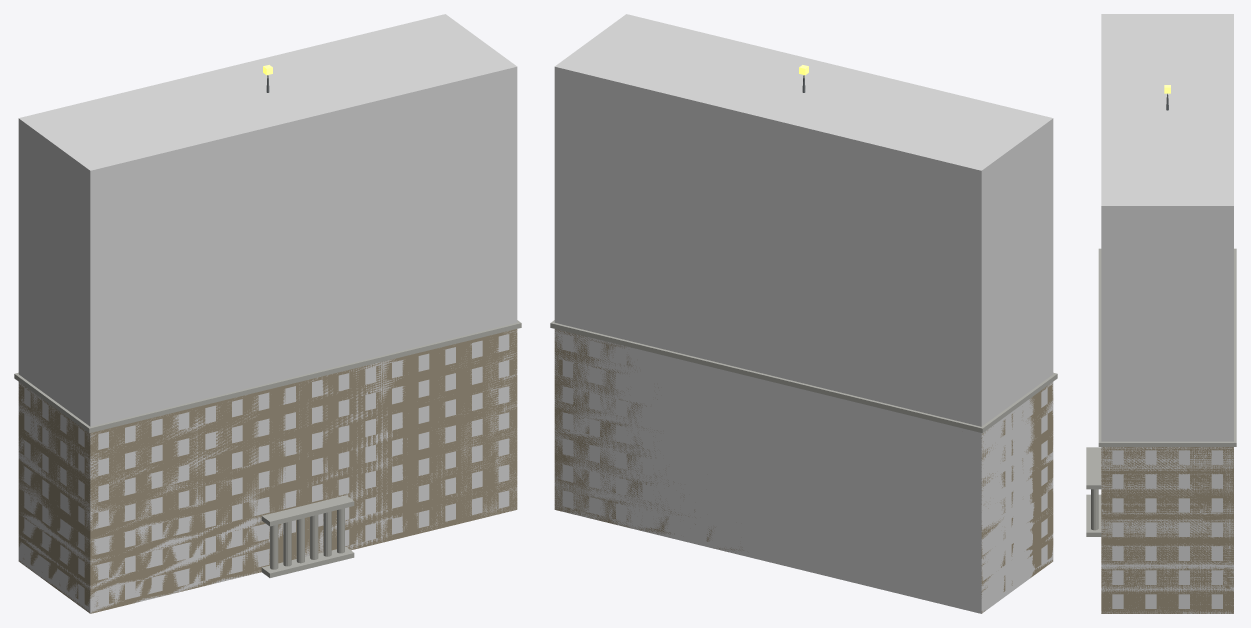
File: stalin_house.glb
3 views of the same model, side by side, from view 1: azimuth 30°, elevation 25°; view 2: azimuth 150°, elevation 25°; view 3: azimuth 270°, elevation 25° (orthographic). The views are drawn at different scales.
Visible parts, largest first — view 1: stalin_house-col, facade_front, facade_left, cornice, architrave, stylobate; view 2: stalin_house-col, facade_back, facade_left, cornice; view 3: stalin_house-col, facade_right, cornice, architrave, stylobate, column.005.
Part boxes in pixels (left/top/right/bottom): stalin_house-col: left=18, top=14, right=517, bottom=613; facade_front: left=90, top=329, right=517, bottom=613; facade_left: left=18, top=382, right=90, bottom=613; cornice: left=14, top=320, right=521, bottom=433; architrave: left=261, top=495, right=354, bottom=526; stylobate: left=261, top=547, right=354, bottom=577; stalin_house-col: left=554, top=14, right=1053, bottom=613; facade_back: left=554, top=329, right=743, bottom=551; facade_left: left=981, top=383, right=1053, bottom=613; cornice: left=550, top=320, right=1057, bottom=433; stalin_house-col: left=1101, top=14, right=1233, bottom=613; facade_right: left=1101, top=447, right=1233, bottom=613; cornice: left=1098, top=248, right=1236, bottom=446; architrave: left=1086, top=447, right=1101, bottom=489; stylobate: left=1086, top=494, right=1101, bottom=536; column.005: left=1091, top=489, right=1098, bottom=530.
Size of the model in its own units: 48.6 by 50.35 by 15.9.
